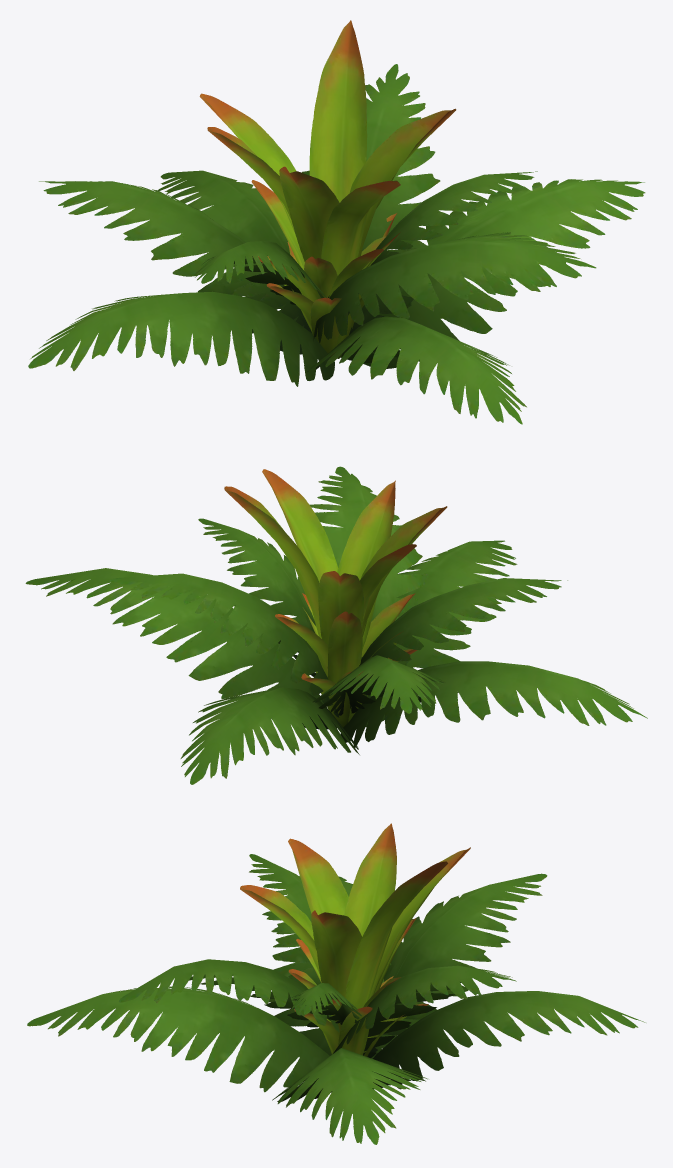
File: ferns.glb
3 renders of one model, top to bottom at view 1: azimuth 30°, elevation 25°; view 2: azimuth 150°, elevation 25°; view 3: azimuth 270°, elevation 25°, orthographic. The views are drawn at different scales.
Parts seen in each view (by area): view 1: Fern_1, Plant_1_Big; view 2: Fern_1, Plant_1_Big; view 3: Fern_1, Plant_1_Big.
Boxes of the visible parts, x1=… form: Fern_1: x1=28, y1=64, x2=645, y2=424; Plant_1_Big: x1=199, y1=20, x2=456, y2=358; Fern_1: x1=25, y1=466, x2=647, y2=784; Plant_1_Big: x1=224, y1=469, x2=447, y2=727; Fern_1: x1=27, y1=854, x2=645, y2=1144; Plant_1_Big: x1=240, y1=823, x2=470, y2=1056.
Size of the model in its own units: 9.05 by 3.95 by 8.49.
1 material, 1 textured.
